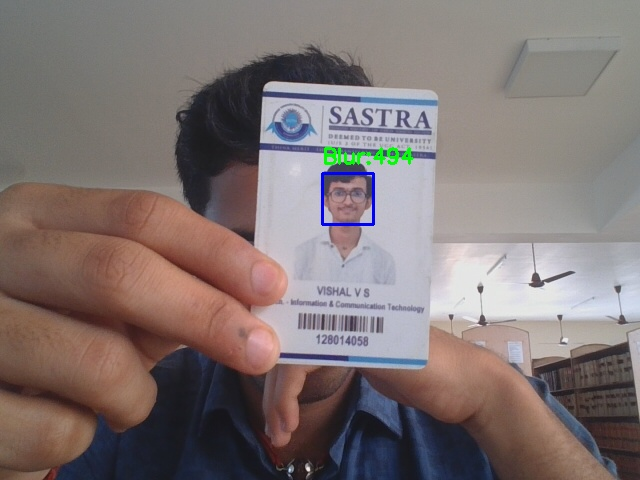fake: (322, 173, 373, 224)
